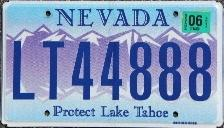4: (99, 40, 127, 101), (70, 40, 96, 102)
8: (187, 39, 214, 103), (156, 39, 183, 102), (128, 40, 153, 101)
L: (11, 38, 38, 102)
T: (41, 39, 68, 103)
